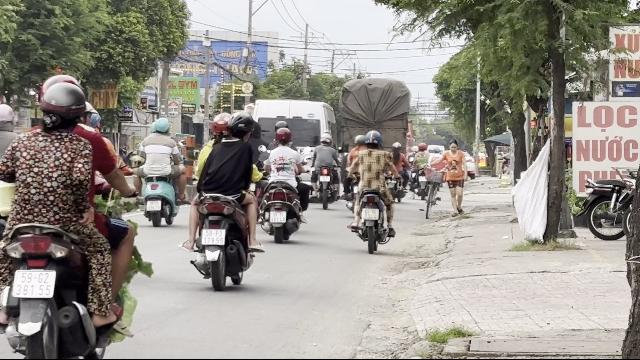helmet: (37, 82, 89, 132), (228, 111, 256, 139), (208, 112, 232, 140), (362, 129, 382, 147), (274, 127, 292, 146)
licenseplate: (12, 269, 54, 297), (202, 229, 224, 245), (270, 211, 286, 223), (362, 209, 378, 219)
motorcyclist: (0, 73, 152, 357), (182, 110, 264, 290), (344, 128, 398, 252), (257, 126, 309, 242)
